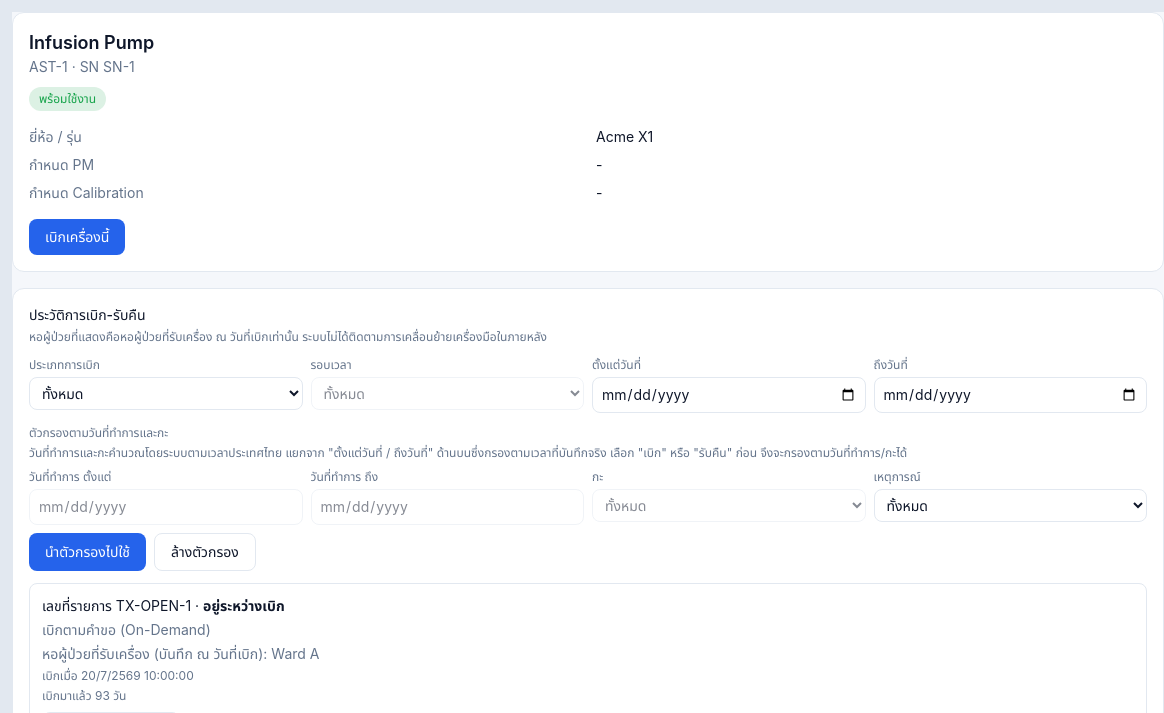
EquipmentDetailPage business-date/shift filter controls (Roadmap PR16 Slice 4) › serializes applied filters into the URL query string
This screenshot has width=1164, height=713.
Expected: the text "TX-OPEN-1" is shown, [116, 597, 191, 614]
Select "เบิก" in the dropdown labelled "เหตุการณ์". click: coordinates (1010, 506)
box: [874, 489, 1147, 522]
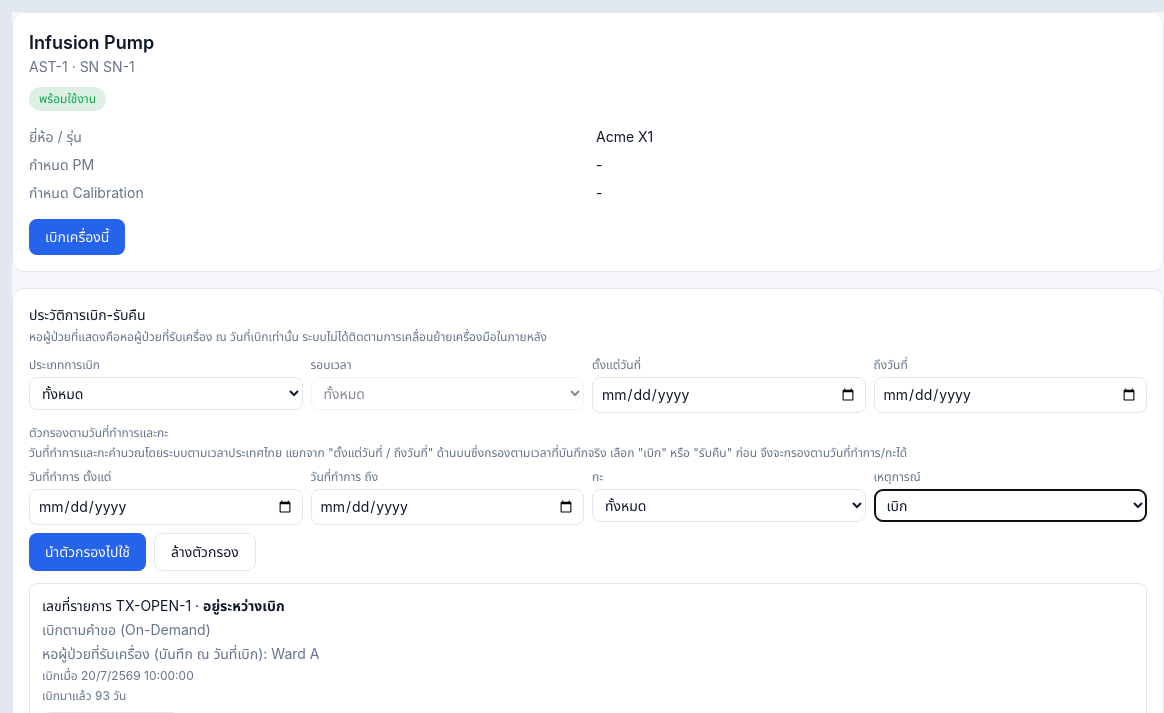
Type "2026-07-01" into the date field labelled "วันที่ทำการ ตั้งแต่". click: coordinates (166, 507)
box: [29, 489, 302, 525]
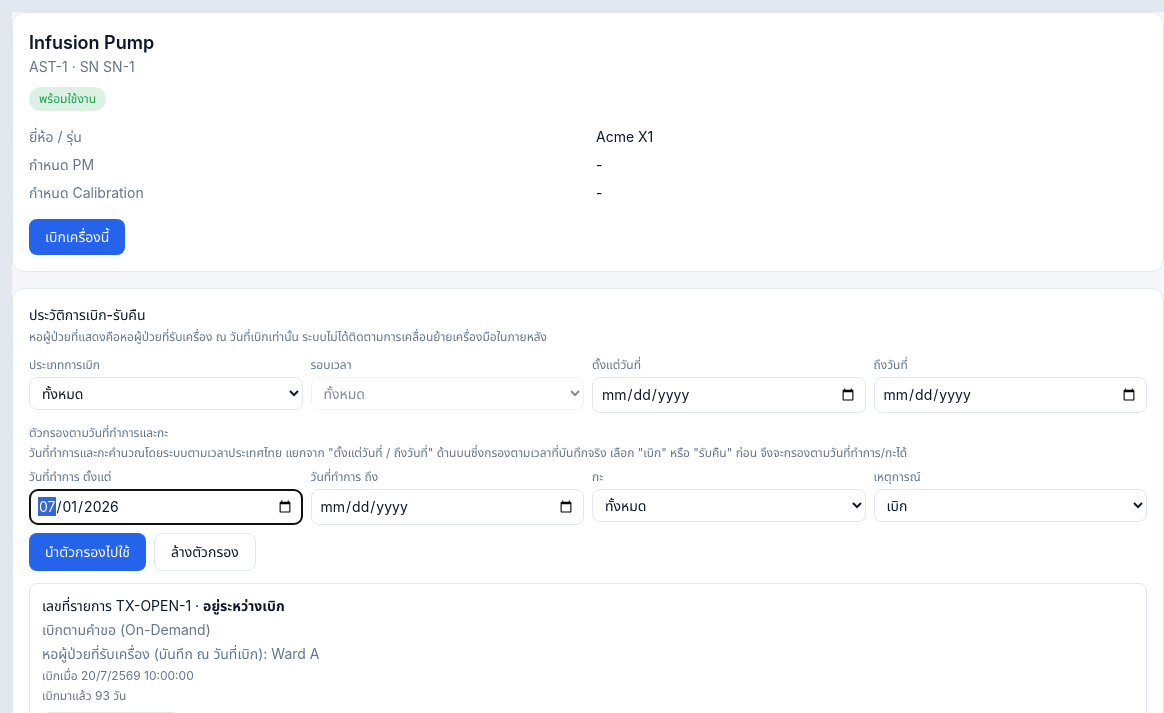
Select "กลางวัน" in the dropdown labelled "กะ". click: coordinates (729, 506)
box: [592, 489, 866, 522]
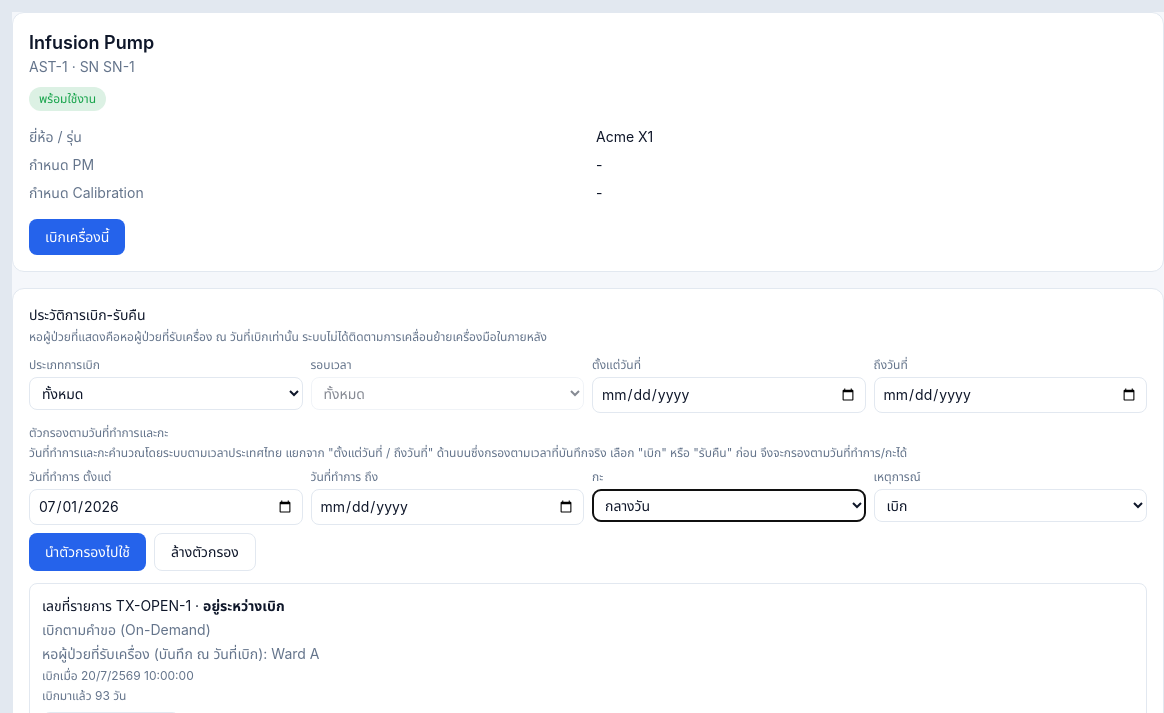
Click the button "นำตัวกรองไปใช้". click: coordinates (88, 552)
box: [29, 533, 146, 571]
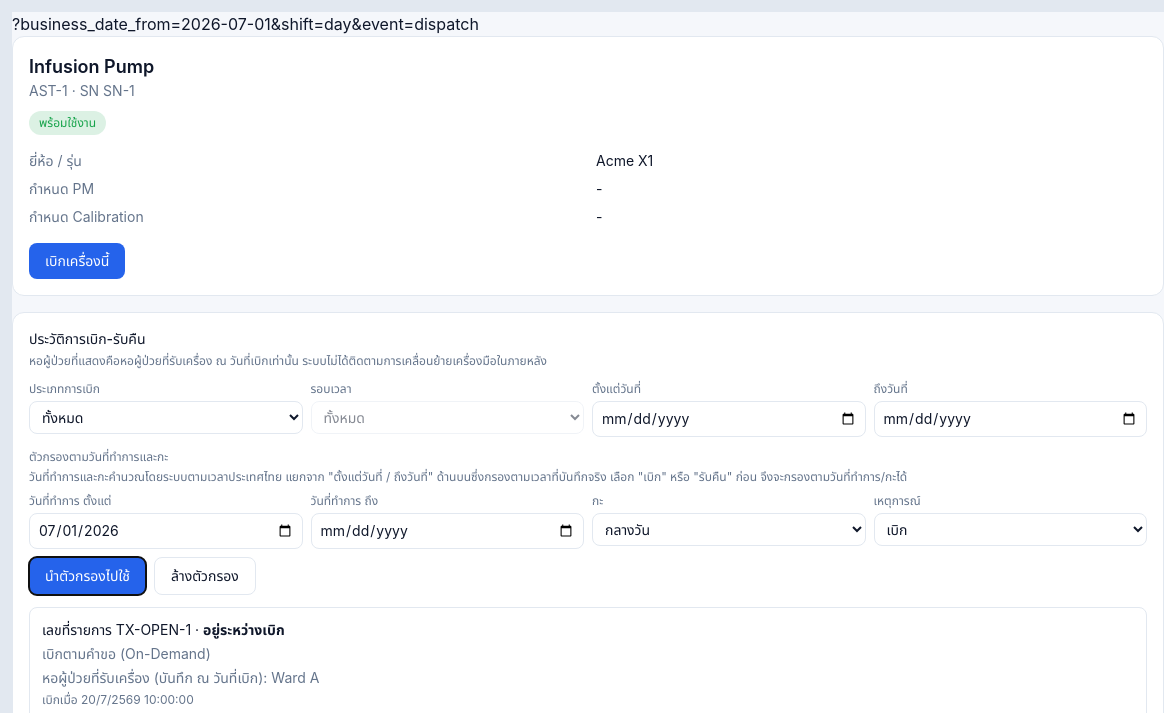
Now the text with test id "location-search" shows "business_date_from=2026-07-01", box [12, 14, 479, 34]
Now the text with test id "location-search" shows "shift=day", box [12, 14, 479, 34]
Now the text with test id "location-search" shows "event=dispatch", box [12, 14, 479, 34]
